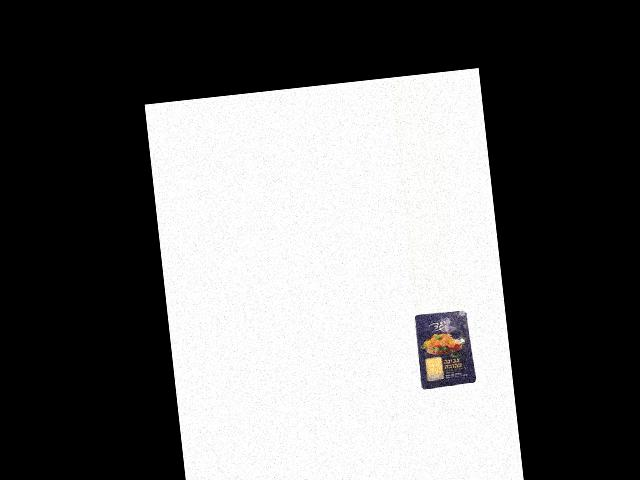cheese: (413, 308, 478, 389)
